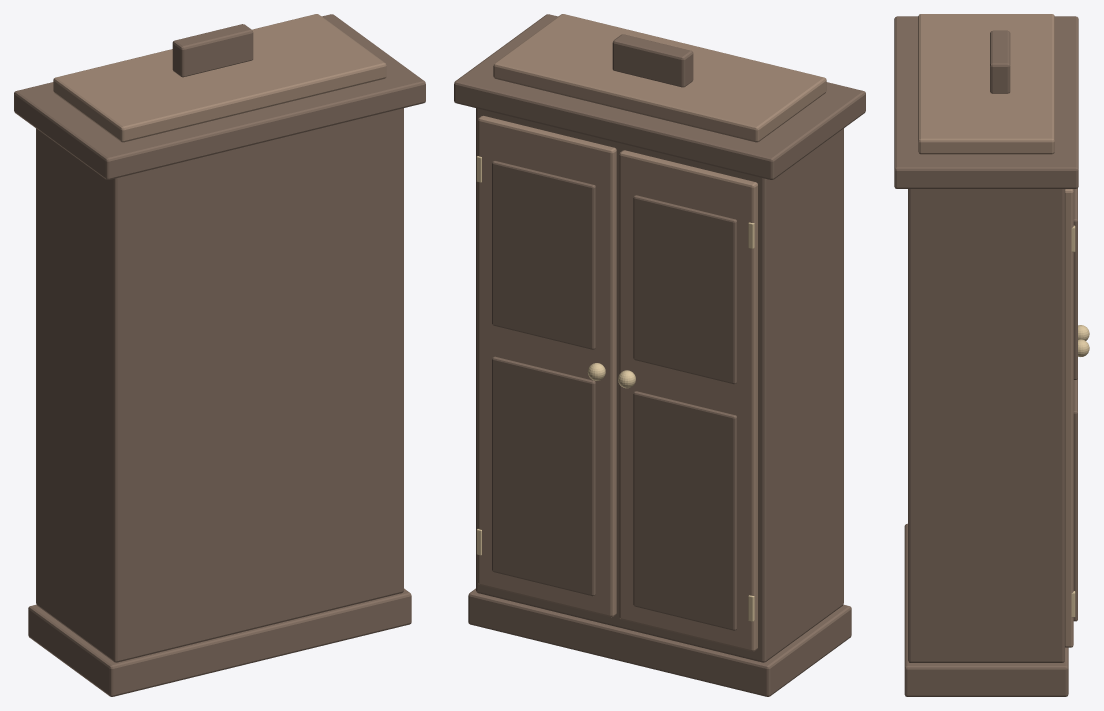
Rendered from Wardrobe.glb.
The picture shows the model from 3 angles, left to right: view 1: azimuth 30°, elevation 25°; view 2: azimuth 150°, elevation 25°; view 3: azimuth 270°, elevation 25°; orthographic projection. The views are drawn at different scales.
Visible parts, largest first — view 1: Wardrobe_DarkWood, Wardrobe_Wood; view 2: Wardrobe_DarkWood, Wardrobe_Wood, Wardrobe_Brass; view 3: Wardrobe_DarkWood, Wardrobe_Wood, Wardrobe_Brass.
Part boxes in pixels (x1,y1,x2,y2): Wardrobe_DarkWood: [14, 14, 425, 696]; Wardrobe_Wood: [53, 14, 386, 142]; Wardrobe_DarkWood: [454, 14, 865, 696]; Wardrobe_Wood: [478, 14, 826, 651]; Wardrobe_Brass: [476, 156, 754, 621]; Wardrobe_DarkWood: [894, 16, 1078, 696]; Wardrobe_Wood: [918, 14, 1073, 647]; Wardrobe_Brass: [1071, 225, 1089, 617].
Size of the model in its own units: 5.3 by 9.35 by 2.86.
